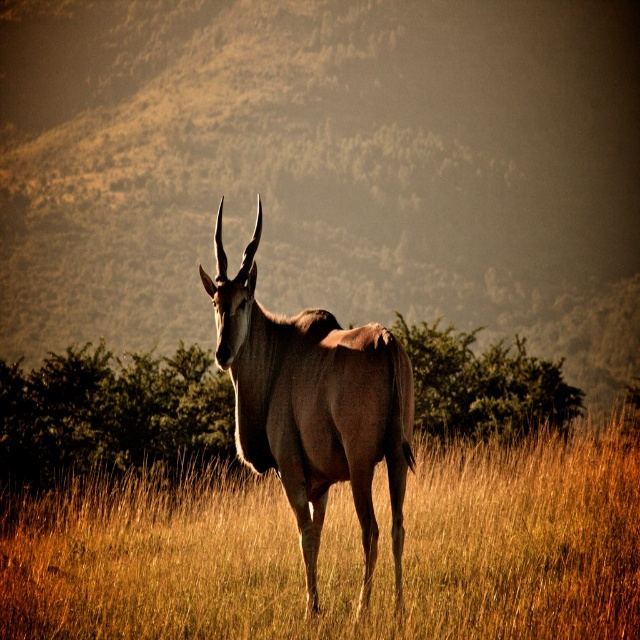Deer: (199, 193, 418, 624)
